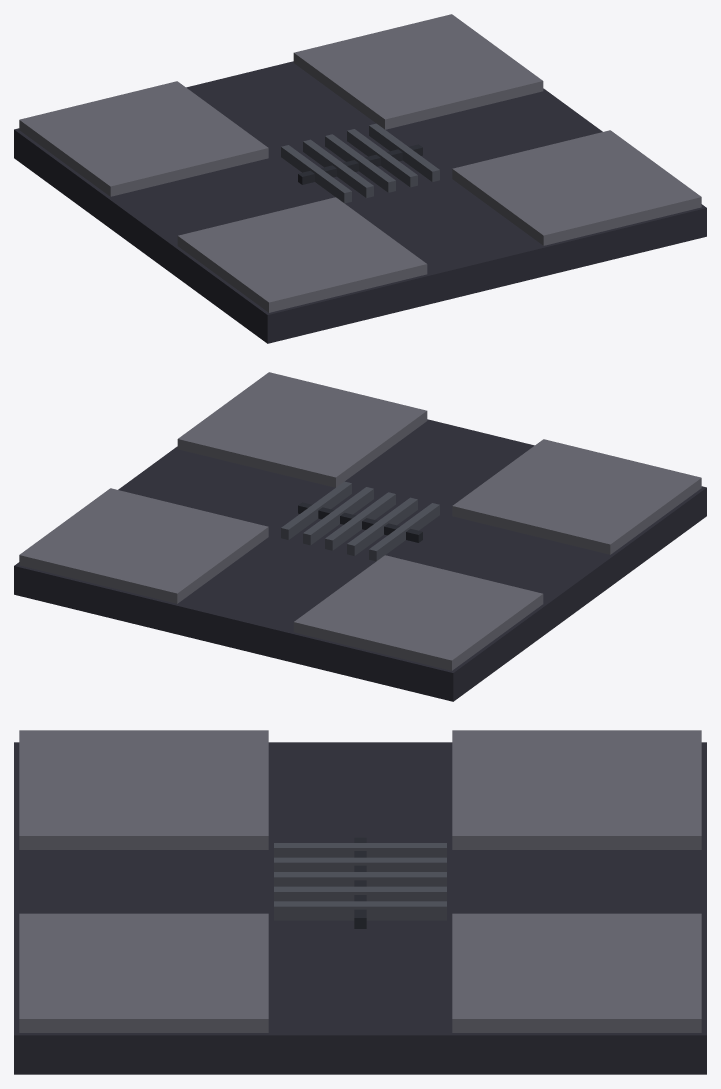
File: floor_drain.fbx
The picture shows the model from 3 angles, top to bottom: view 1: azimuth 30°, elevation 25°; view 2: azimuth 150°, elevation 25°; view 3: azimuth 270°, elevation 25°; orthographic projection. The views are drawn at different scales.
Visible parts, largest first — view 1: floor_drain; view 2: floor_drain; view 3: floor_drain.
Boxes of the visible parts, <box> form: floor_drain: <box>14,14,706,343</box>; floor_drain: <box>14,372,706,701</box>; floor_drain: <box>14,730,706,1074</box>.
Bounding box in the file's own units: 4 × 0.34 × 4.
